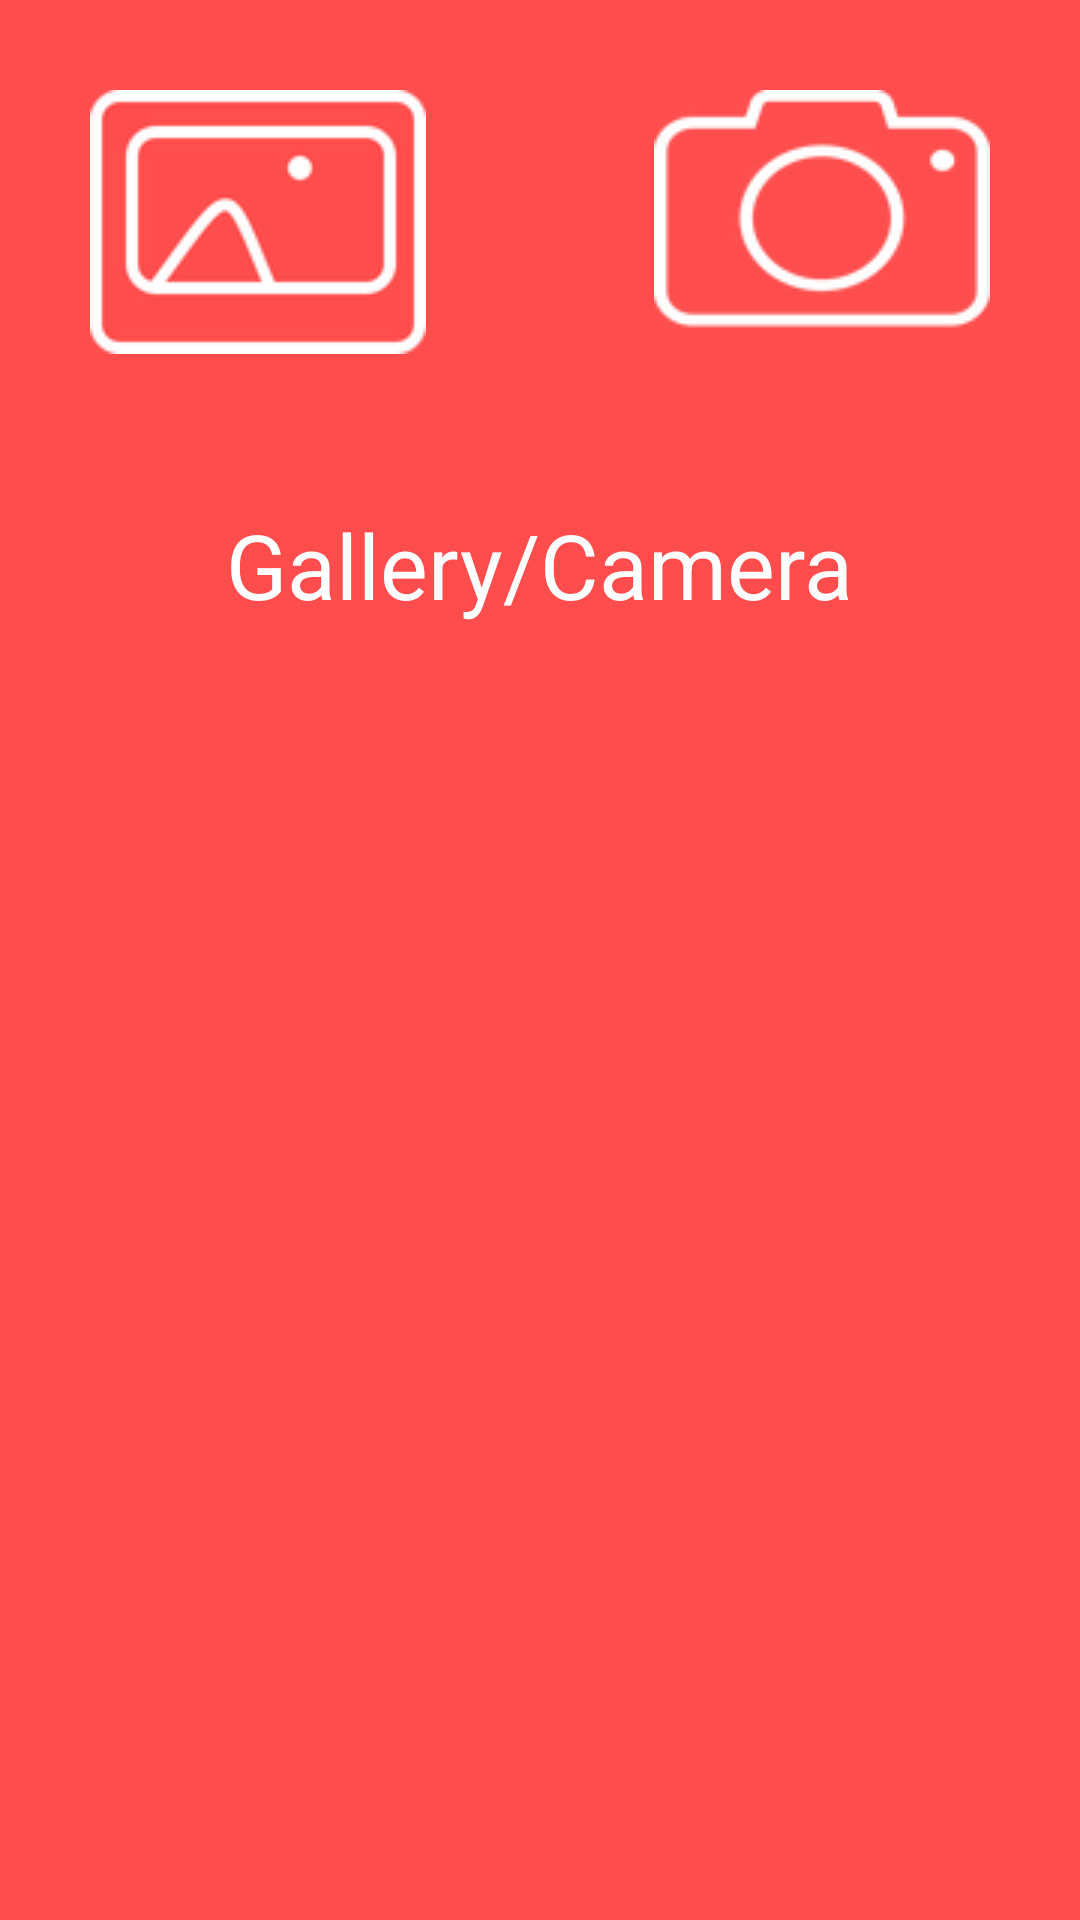

Named icons in this screenshot (1080 × 1920) and their centers, (x,y):
rsz photo cam: (822,209)
rsz photo gallery butn: (258,222)
